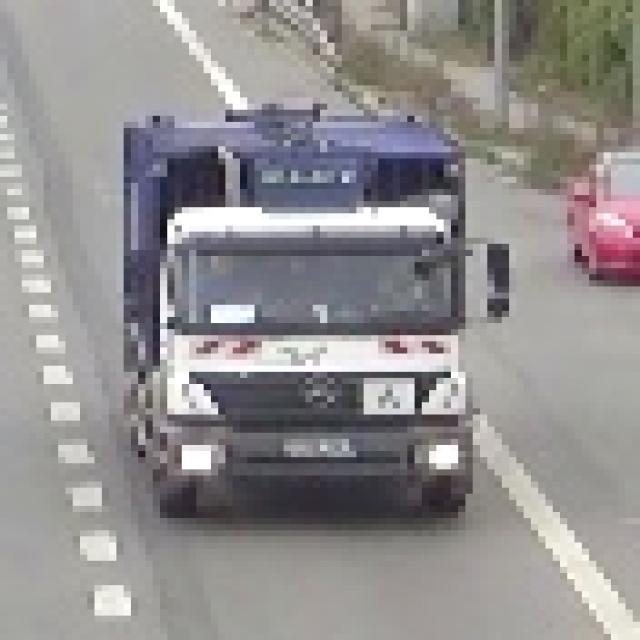truck: (103, 105, 510, 525)
